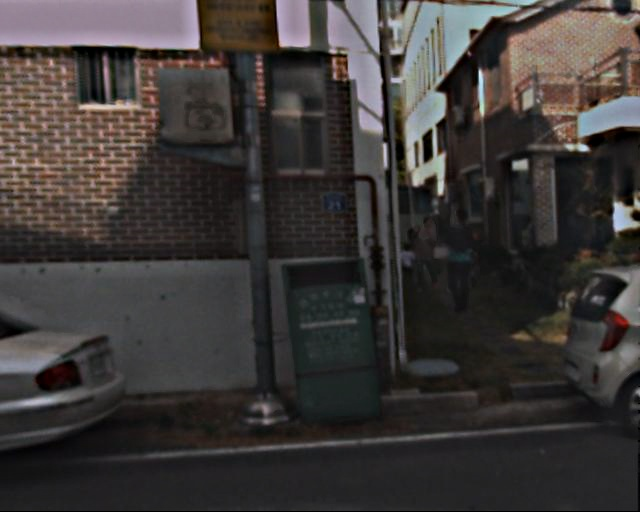person: (433, 205, 487, 317), (410, 217, 443, 298), (395, 242, 414, 283)
